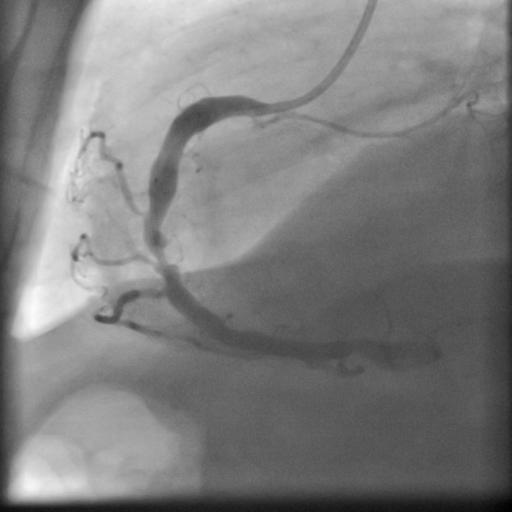Stenosis: (144, 229, 180, 275)
